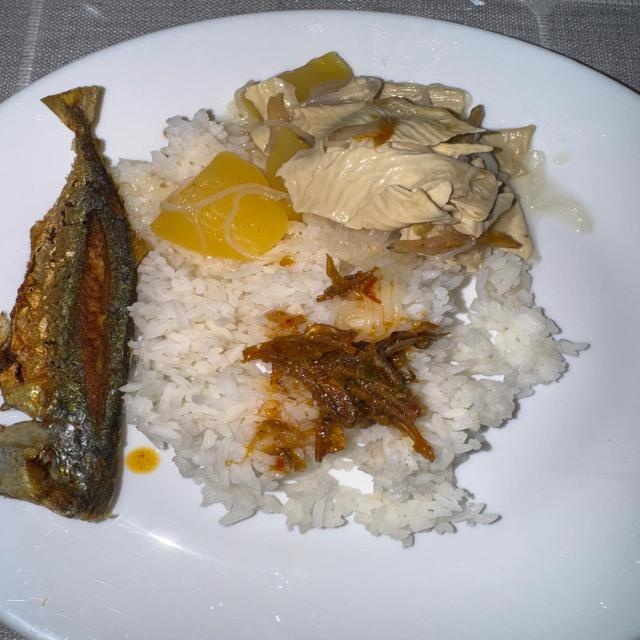Fish: (0, 81, 135, 524)
Plate: (0, 12, 639, 633)
Rice: (113, 110, 590, 548)
Vegetables: (151, 49, 534, 277)
